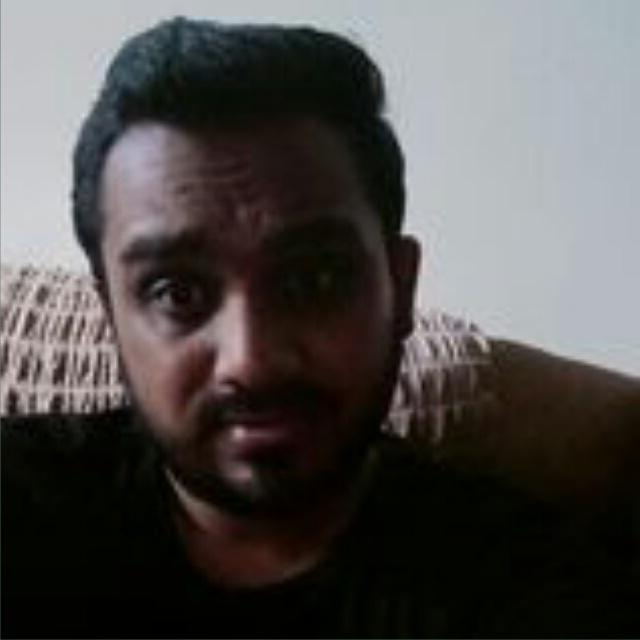Surprised: (32, 80, 433, 517)
